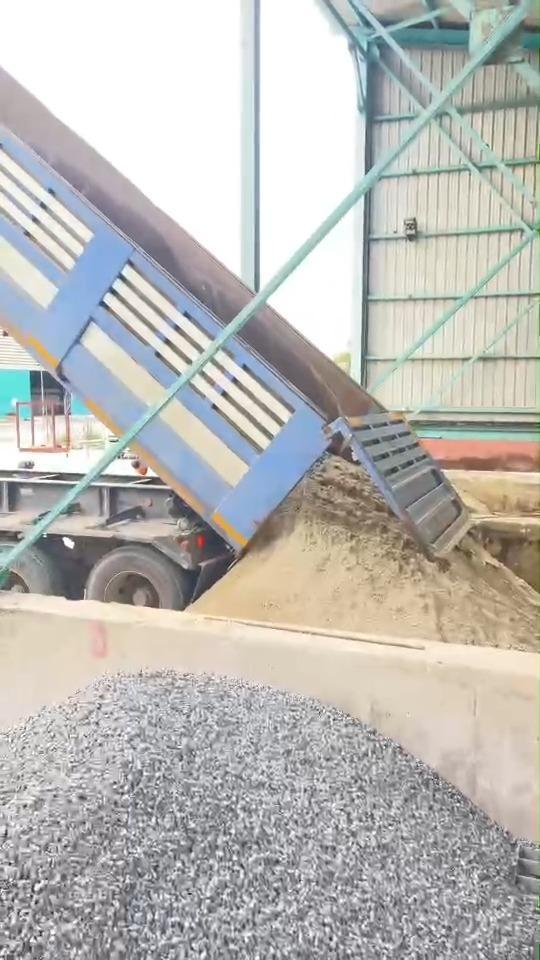gravel: (0, 672, 535, 959)
sand: (194, 457, 537, 649), (449, 471, 539, 517)
